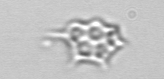plankton: (40, 13, 133, 72)
